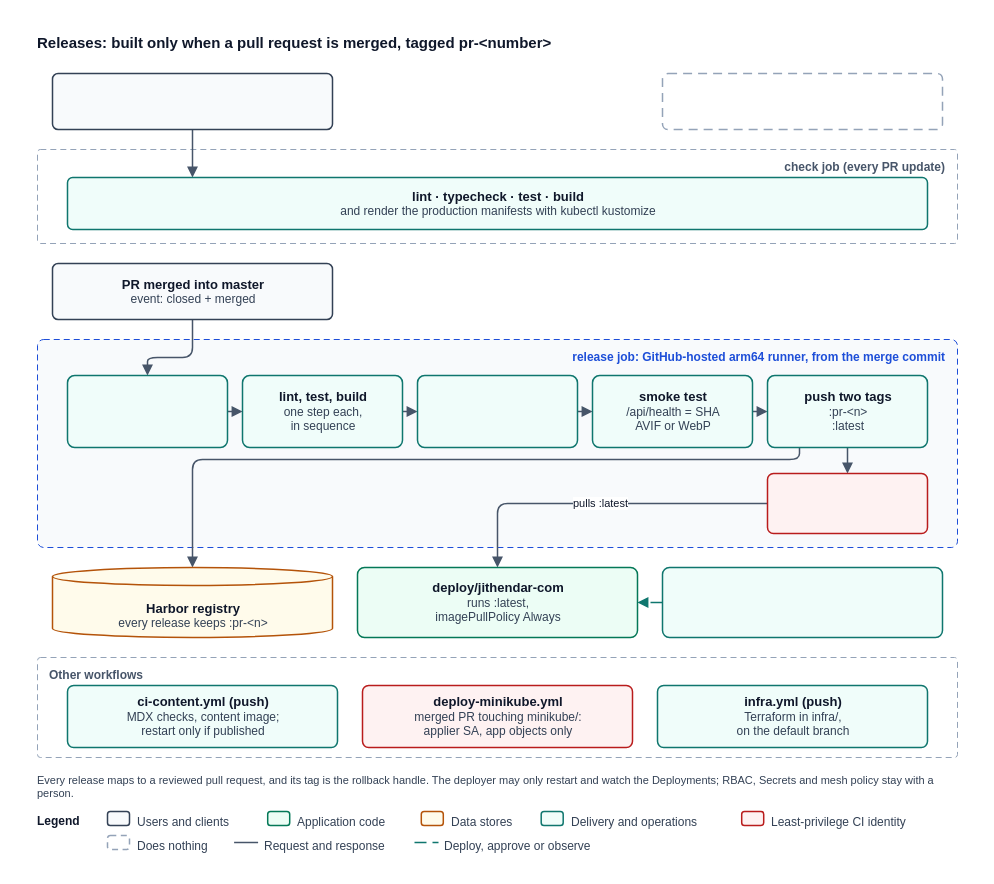
This 994x884 diagram has some shape labels left out. Here are the shapes that lost their labels. From the top down, the centre of each, then its label:
the point at 192,101: Pull request opened, updated or reopened
the point at 802,101: Push straight to master no push trigger: nothing runs
the point at 147,411: scope image files changed?
the point at 497,411: image size gate fails above +15 % of the baseline
the point at 847,503: rollout restart restart + watch only
the point at 802,602: Rollback kubectl set image … :pr-<last good>
